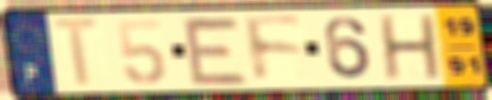5: (114, 17, 168, 86)
6: (321, 15, 374, 81)
E: (179, 14, 252, 87)
F: (240, 14, 308, 86)
H: (376, 12, 445, 82)
T: (48, 16, 106, 90)
